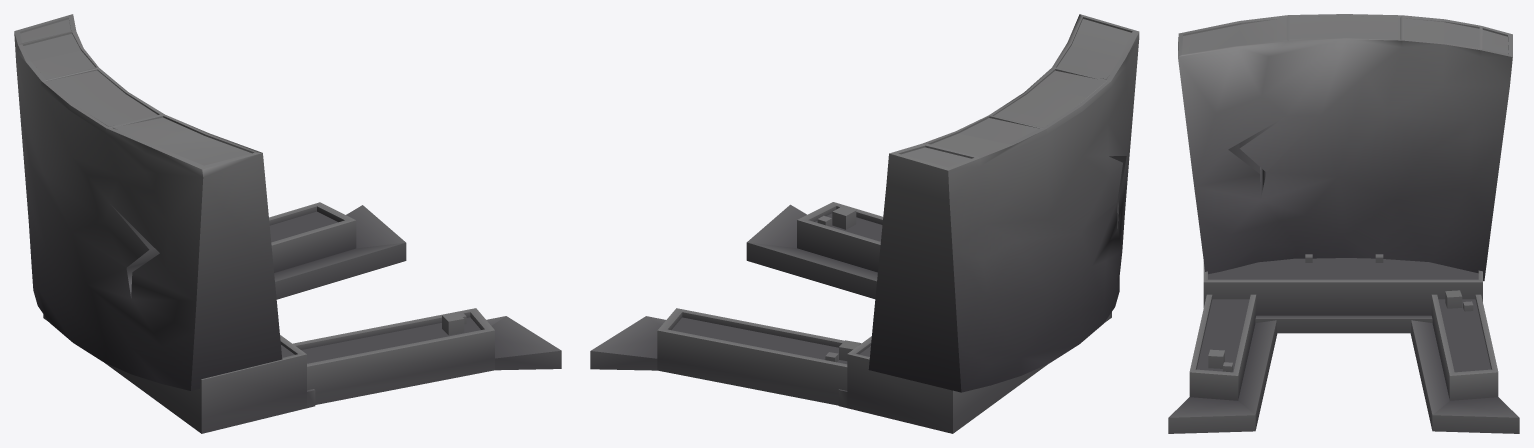
The model's file is SM_Dam_Broken_one_crack.fbx.
The picture shows the model from 3 angles, left to right: view 1: azimuth 30°, elevation 25°; view 2: azimuth 150°, elevation 25°; view 3: azimuth 270°, elevation 25°; orthographic projection. The views are drawn at different scales.
Visible parts, largest first — view 1: DamBroken.023, DamBroken.001; view 2: DamBroken.023, DamBroken.001; view 3: DamBroken.023, DamBroken.001.
Part boxes in pixels (<box>): DamBroken.023: <box>14,14,282,390</box>; DamBroken.001: <box>43,202,561,433</box>; DamBroken.023: <box>868,14,1139,392</box>; DamBroken.001: <box>590,202,1111,433</box>; DamBroken.023: <box>1178,14,1512,281</box>; DamBroken.001: <box>1168,254,1519,433</box>.
Size of the model in its own units: 2740 by 2413 by 1910.
